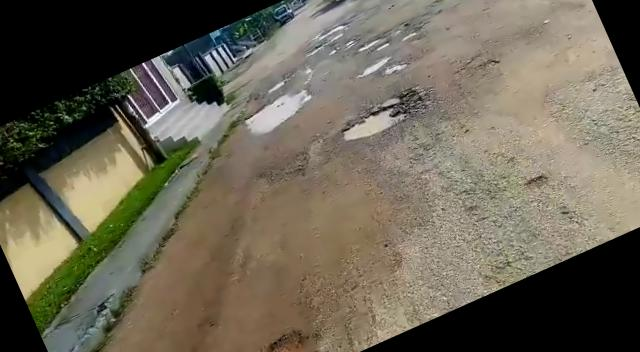pothole: (334, 86, 427, 149), (241, 82, 318, 138), (254, 320, 331, 352), (349, 53, 392, 80), (351, 32, 388, 55), (329, 32, 364, 54), (382, 60, 411, 78), (374, 40, 392, 52), (402, 29, 418, 41)
